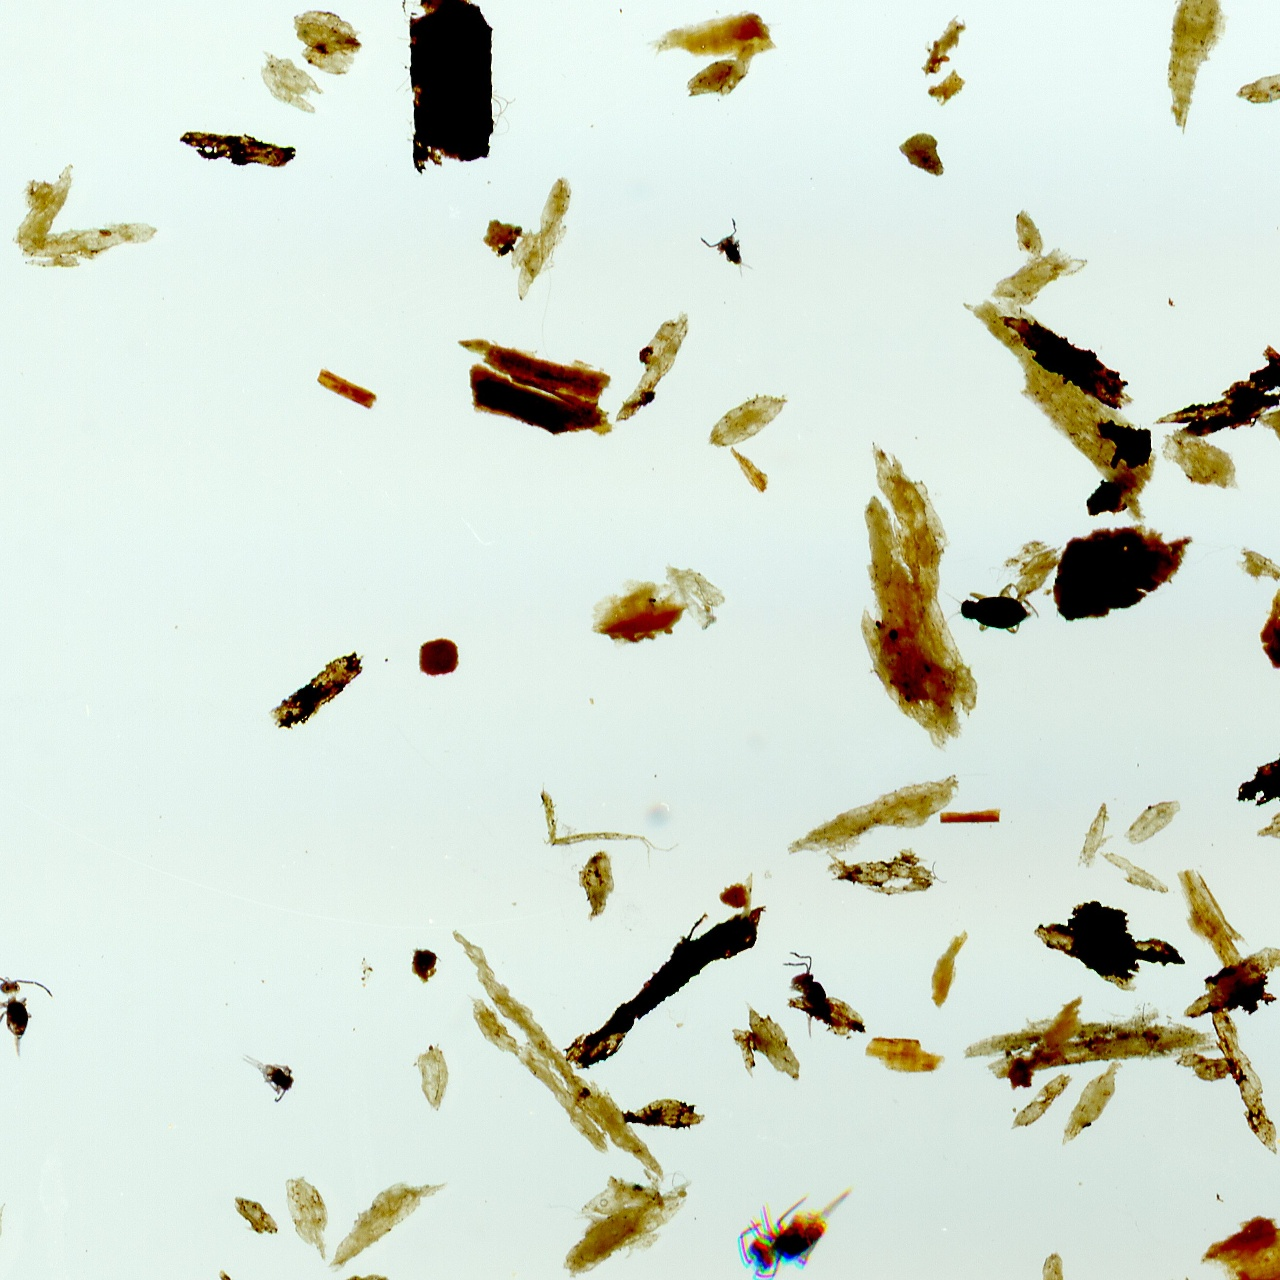arthropod: (735, 1184, 854, 1280), (942, 581, 1043, 638), (696, 213, 768, 291), (0, 968, 57, 1061), (779, 949, 836, 1042), (240, 1049, 297, 1106)
